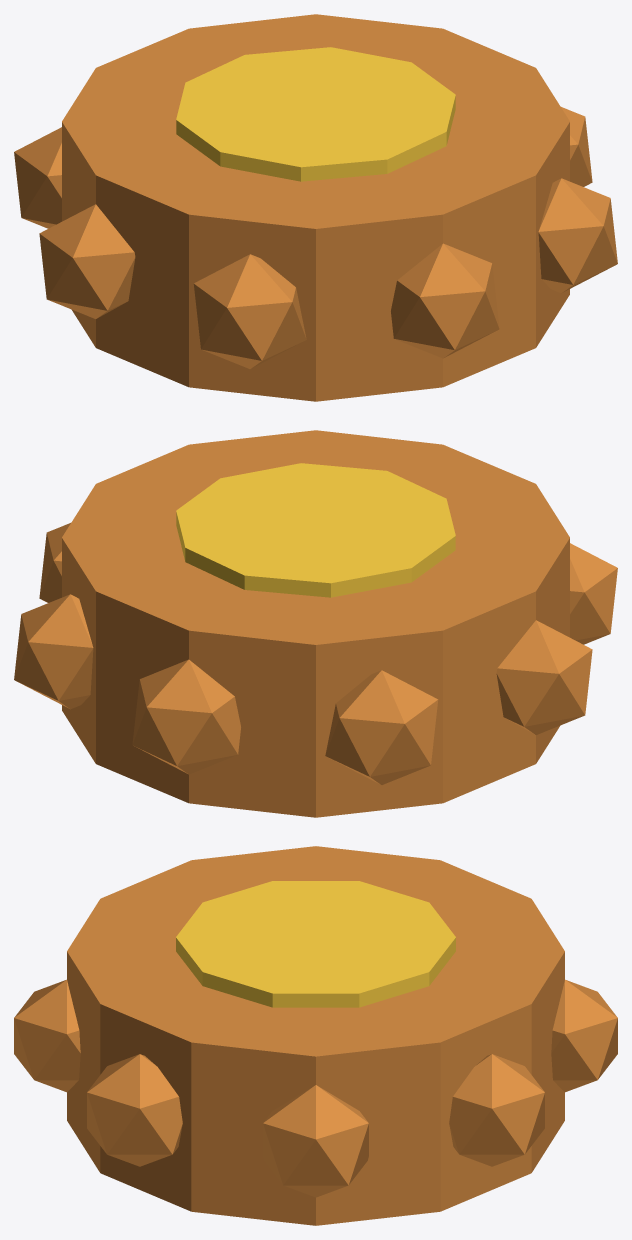
The model's file is mooncake.glb.
The picture shows the model from 3 angles, top to bottom: view 1: azimuth 30°, elevation 25°; view 2: azimuth 150°, elevation 25°; view 3: azimuth 270°, elevation 25°; orthographic projection. The views are drawn at different scales.
Parts seen in each view (by area): view 1: mooncake; view 2: mooncake; view 3: mooncake.
Boxes of the visible parts, left/top/right/bottom form: mooncake: left=14, top=14, right=617, bottom=401; mooncake: left=14, top=430, right=617, bottom=817; mooncake: left=14, top=846, right=617, bottom=1225.
Size of the model in its own units: 0.3916 by 0.13 by 0.3881.
